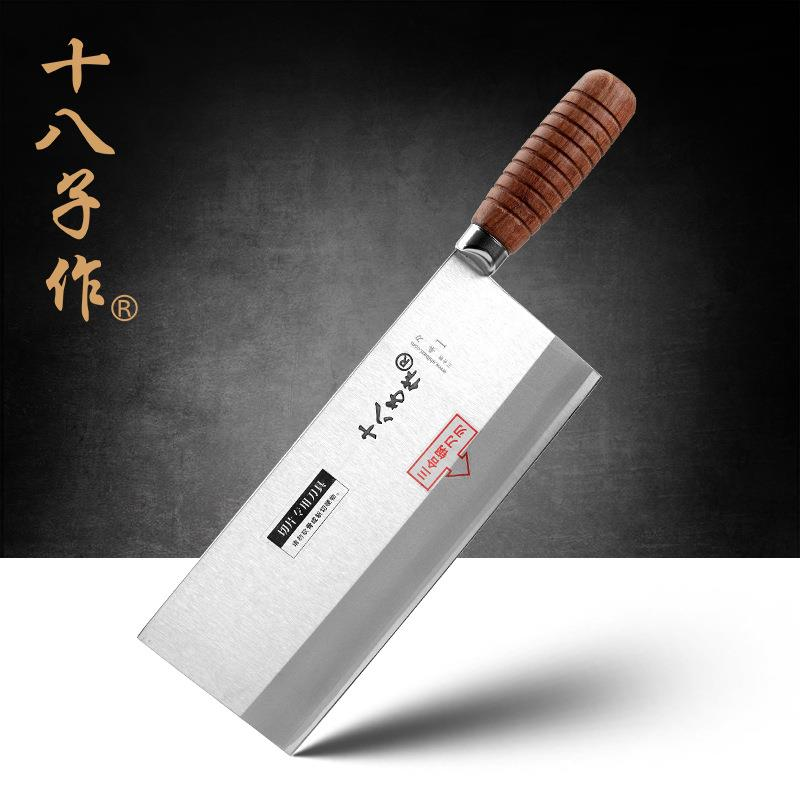knief: (211, 67, 656, 733)
